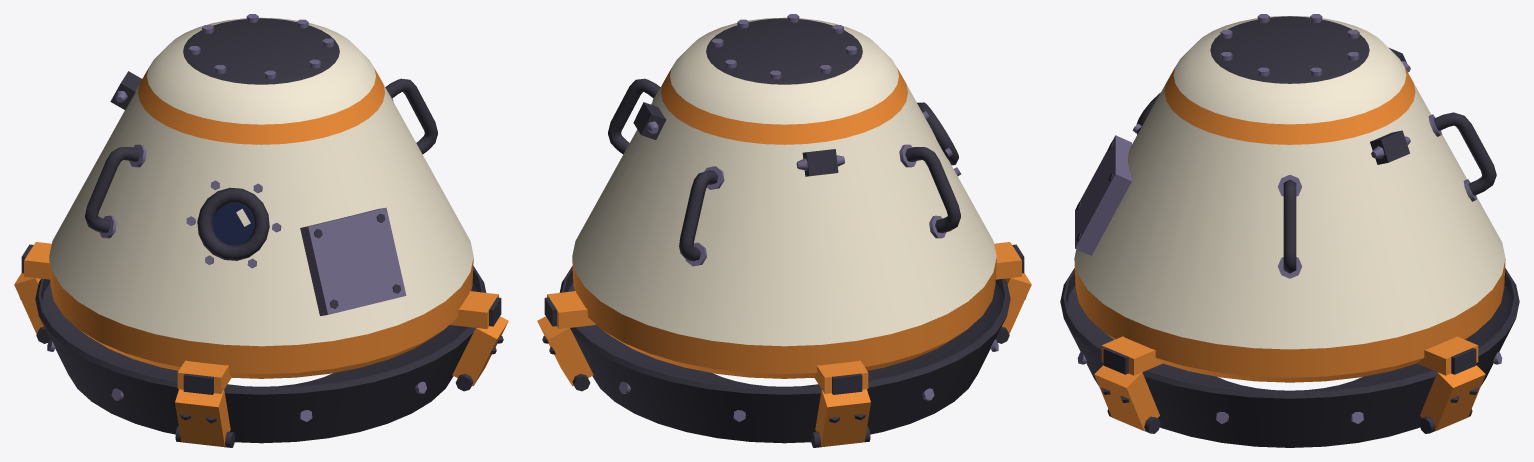
File: return_capsule.glb
3 renders of one model, left to right at view 1: azimuth 30°, elevation 25°; view 2: azimuth 150°, elevation 25°; view 3: azimuth 270°, elevation 25°, orthographic.
Visible parts, largest first — view 1: capsule_CreamHull, capsule_Graphite, capsule_Orange, capsule_PurpleGrey, capsule_Navy; view 2: capsule_CreamHull, capsule_Graphite, capsule_Orange, capsule_PurpleGrey; view 3: capsule_CreamHull, capsule_Graphite, capsule_Orange, capsule_PurpleGrey.
Boxes of the visible parts, box(x1,y1,x2,y2) form: capsule_CreamHull: box(49, 17, 473, 346); capsule_Graphite: box(20, 18, 503, 447); capsule_Orange: box(14, 68, 508, 446); capsule_PurpleGrey: box(47, 14, 426, 421); capsule_Navy: box(212, 203, 254, 245); capsule_CreamHull: box(572, 17, 996, 346); capsule_Graphite: box(542, 18, 1025, 447); capsule_Orange: box(537, 68, 1031, 446); capsule_PurpleGrey: box(619, 14, 998, 421); capsule_CreamHull: box(1074, 16, 1505, 349); capsule_Graphite: box(1060, 16, 1519, 447); capsule_Orange: box(1074, 67, 1505, 430); capsule_PurpleGrey: box(1075, 14, 1502, 423).
Bounding box in the file's own units: 0.75 × 0.578 × 0.75.
